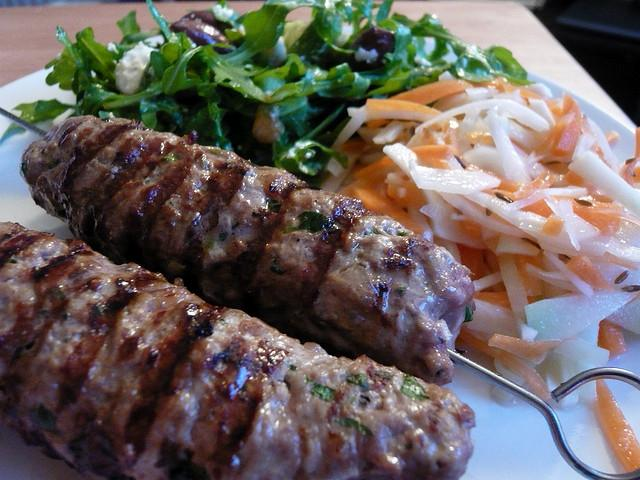carrot: (460, 326, 550, 400), (366, 79, 473, 130), (597, 378, 640, 472), (351, 186, 426, 236), (353, 145, 456, 180), (464, 164, 556, 198), (488, 334, 560, 364), (550, 90, 581, 156), (572, 200, 624, 236), (566, 254, 613, 291), (562, 170, 614, 203), (336, 172, 392, 200), (597, 318, 628, 358), (457, 244, 486, 282), (386, 182, 428, 208), (494, 77, 541, 100), (473, 292, 512, 310), (620, 156, 640, 188), (594, 131, 619, 156), (481, 188, 525, 202), (540, 214, 566, 236), (634, 127, 640, 157), (401, 174, 410, 181)
lettuce: (218, 0, 326, 66), (254, 76, 320, 154), (182, 82, 234, 152), (278, 139, 347, 181), (264, 72, 354, 103), (72, 28, 120, 84), (162, 45, 204, 93), (478, 48, 504, 72), (406, 44, 424, 68)
